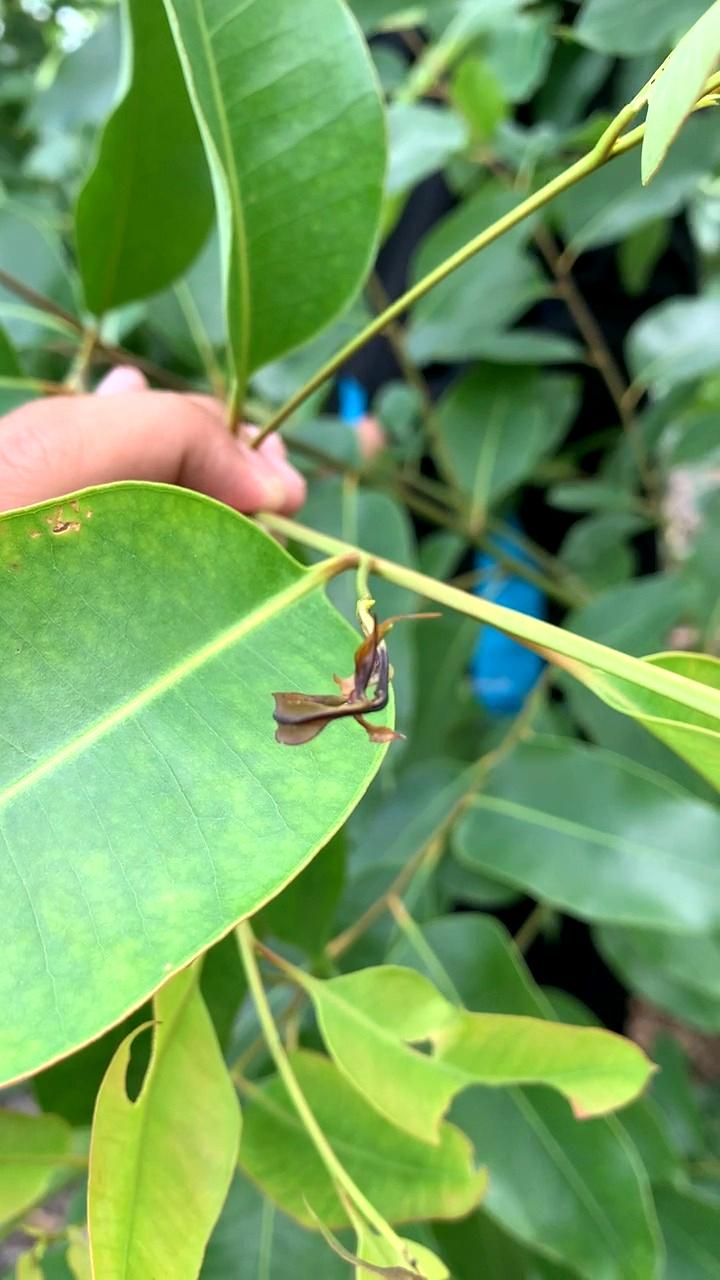Helopeltis-Withered Sprout: (271, 613, 451, 741)
